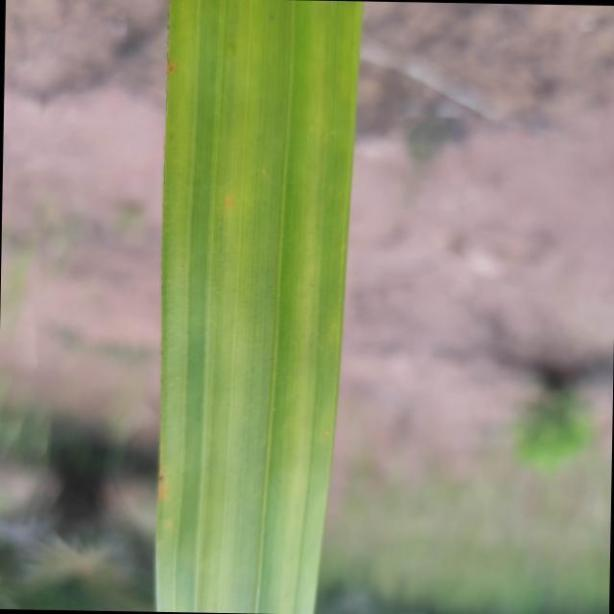nitrogen: (147, 0, 355, 614)
